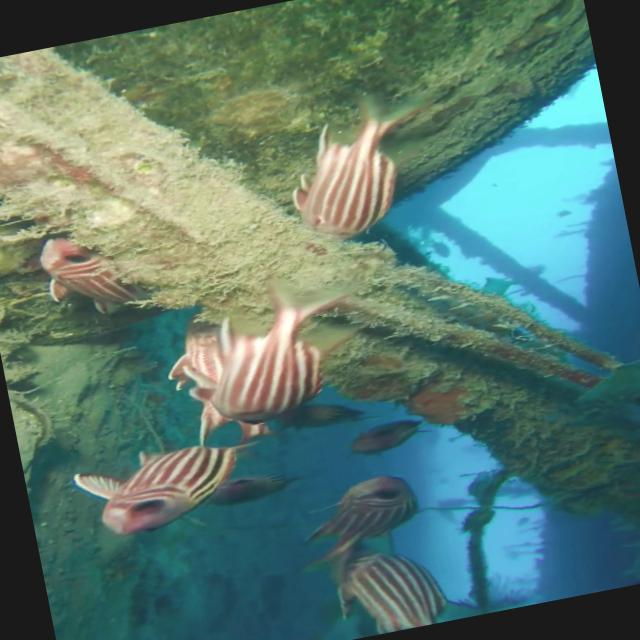Asker Baligi: (272, 77, 462, 248), (62, 430, 247, 546), (168, 321, 336, 445), (294, 465, 444, 559)
